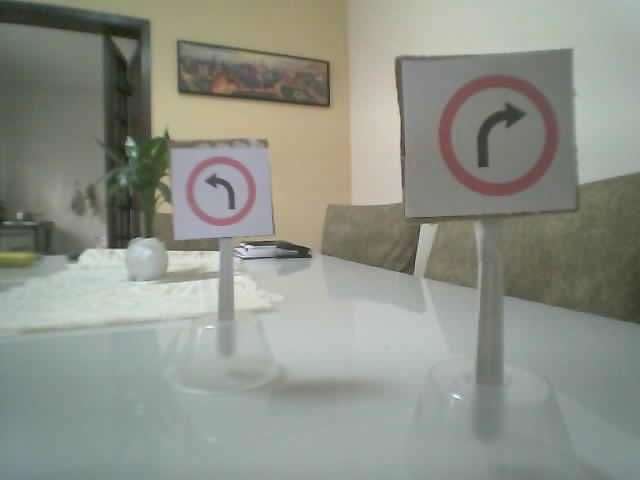R-25a_esquerda: (184, 155, 256, 227)
R-25b_direita: (437, 74, 556, 195)
